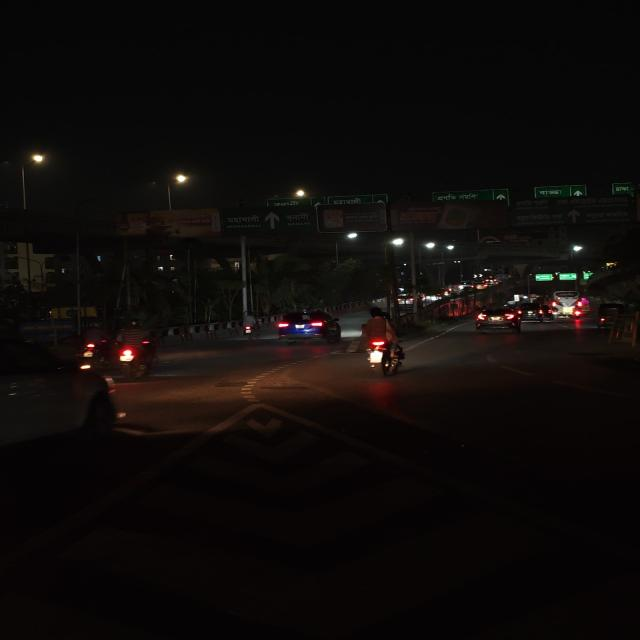bus: (553, 291, 580, 317)
car: (272, 308, 345, 345), (472, 304, 524, 334), (517, 302, 546, 323), (396, 295, 416, 307)
cng: (592, 302, 632, 330)
motorcycle: (354, 306, 409, 376), (108, 323, 164, 380), (72, 324, 114, 370), (238, 312, 264, 343), (569, 302, 588, 319)
